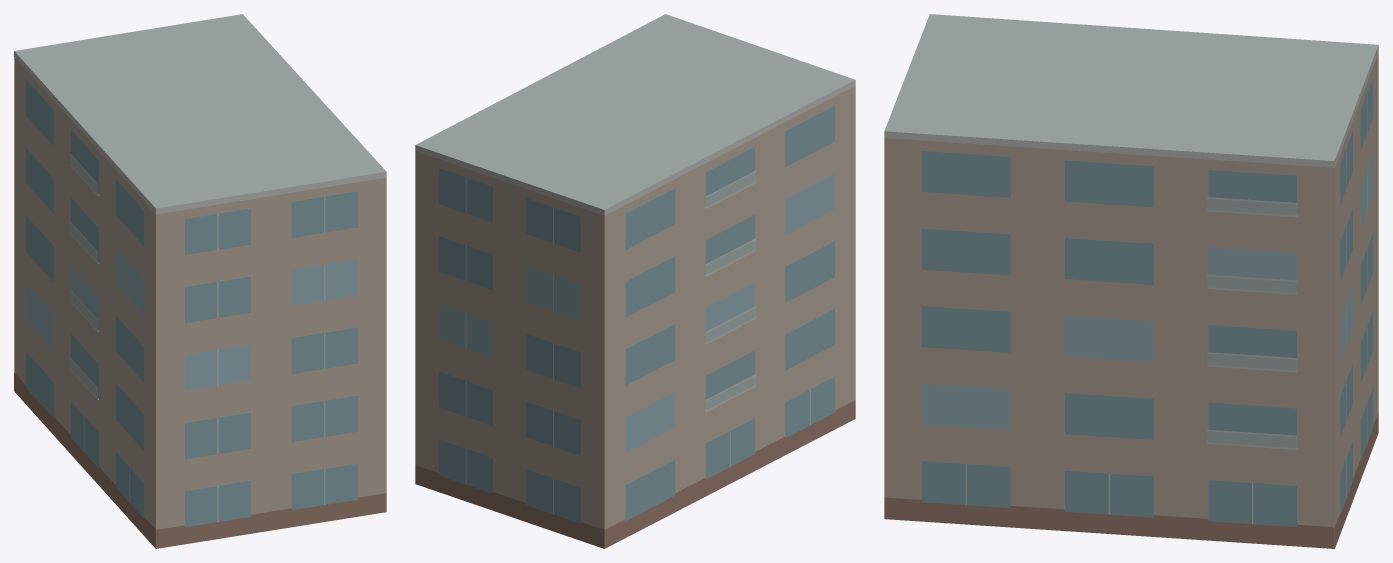
File: survey-upis-33014539.glb
3 views of the same model, side by side, from view 1: azimuth 30°, elevation 25°; view 2: azimuth 150°, elevation 25°; view 3: azimuth 270°, elevation 25° (orthographic). The views are drawn at different scales.
Visible parts, largest first — view 1: survey-upis-33014539.tmp; view 2: survey-upis-33014539.tmp; view 3: survey-upis-33014539.tmp.
Boxes of the visible parts, <box> form: survey-upis-33014539.tmp: <box>14,14,386,548</box>; survey-upis-33014539.tmp: <box>415,14,855,548</box>; survey-upis-33014539.tmp: <box>884,14,1378,548</box>.
Size of the model in its own units: 11.56 by 14.2 by 16.42.
